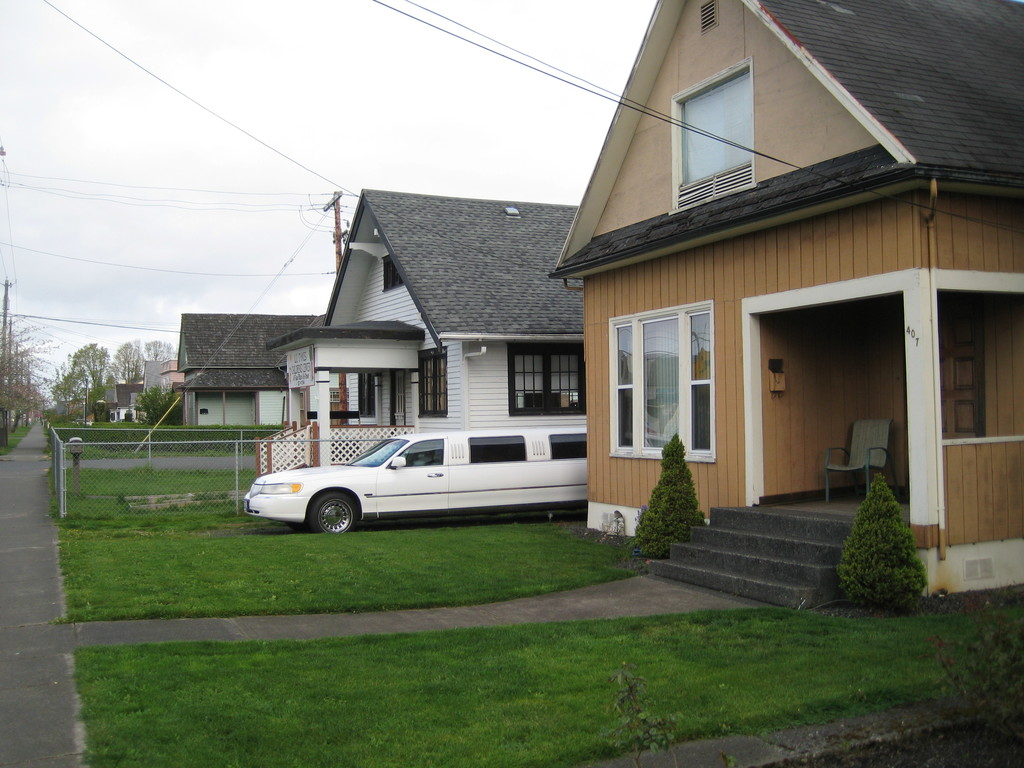Window: (605, 299, 715, 458), (669, 60, 752, 214), (509, 341, 583, 418), (413, 344, 447, 420), (381, 247, 406, 292)
